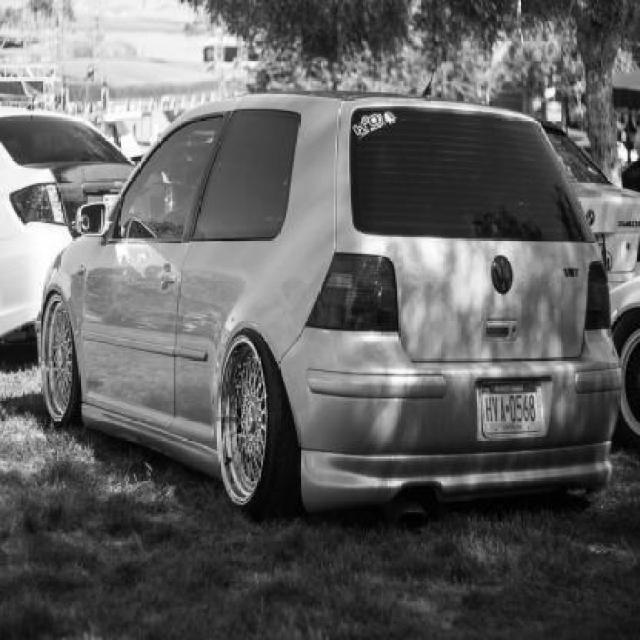car: (29, 92, 622, 503), (0, 107, 152, 369)
license-plate: (476, 386, 556, 445)
